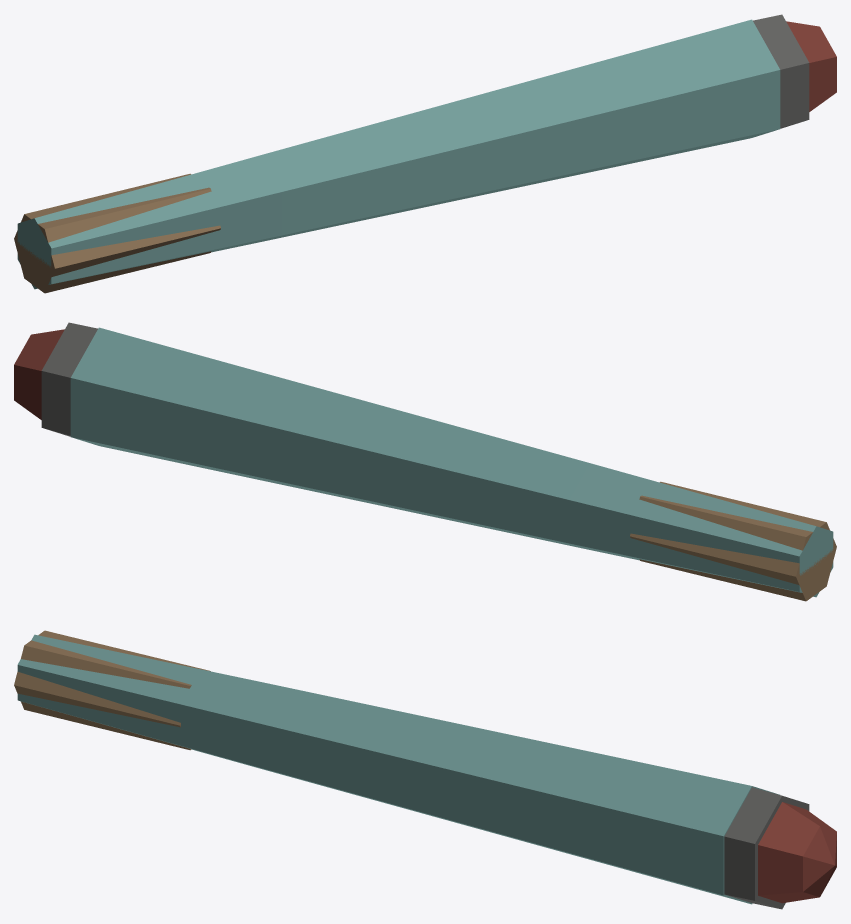
File: joint.glb
3 views of the same model, one above another, from view 1: azimuth 30°, elevation 25°; view 2: azimuth 150°, elevation 25°; view 3: azimuth 330°, elevation 25° (orthographic).
Parts seen in each view (by area): view 1: Joint, Jar; view 2: Joint, Jar; view 3: Joint, Jar.
Part boxes in pixels (x1=…): Joint: x1=14, y1=14, x2=809, y2=293; Jar: x1=786, y1=21, x2=836, y2=111; Joint: x1=41, y1=322, x2=836, y2=601; Jar: x1=14, y1=329, x2=64, y2=419; Joint: x1=14, y1=630, x2=809, y2=909; Jar: x1=758, y1=802, x2=836, y2=903.
Size of the model in its own units: 0.106 by 0.015 by 0.013.
